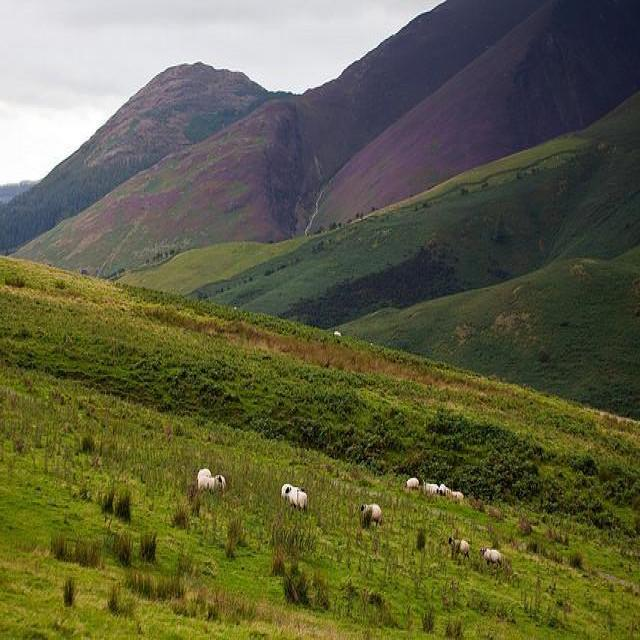Sheep: (228, 300, 346, 352)
